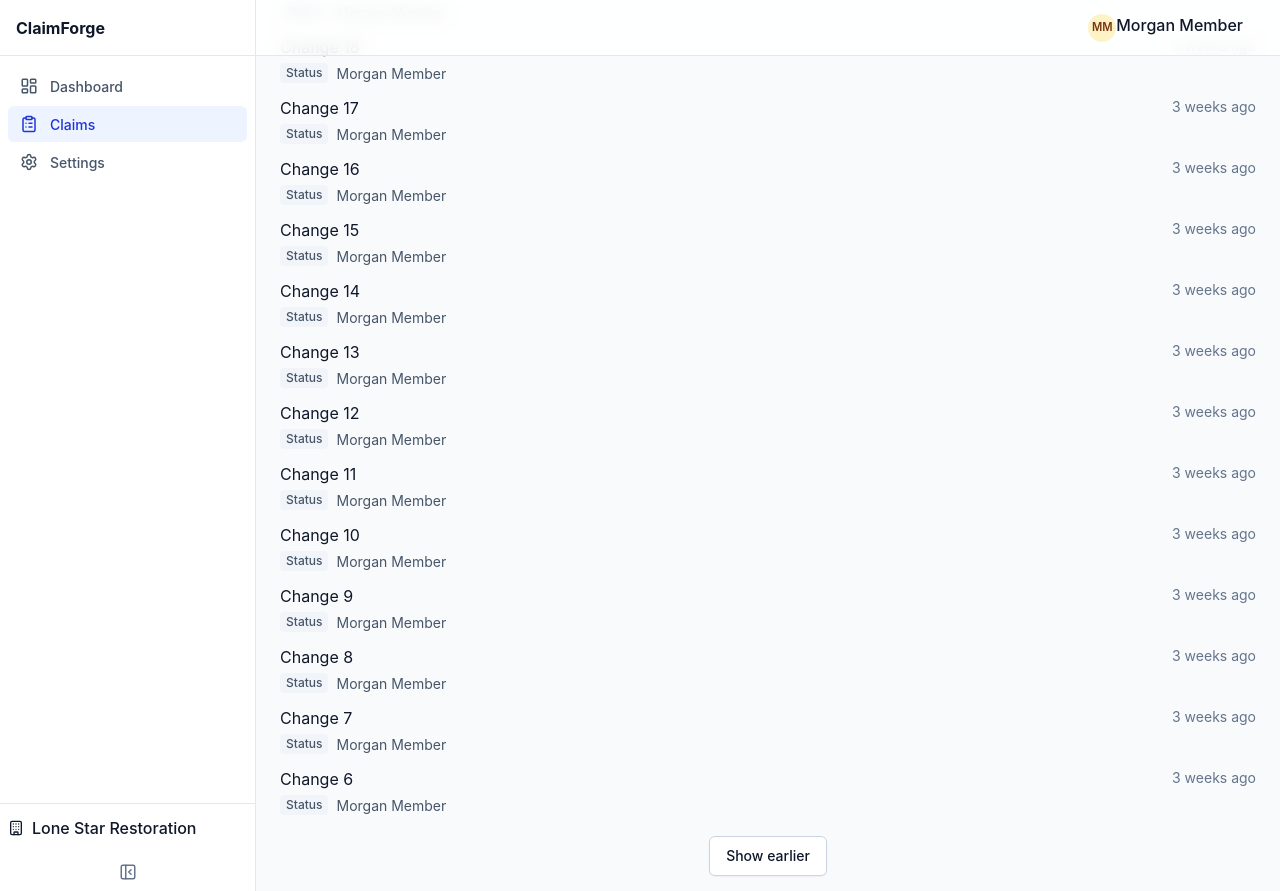
Scenario: the timeline › shows earlier entries on request
This screenshot has width=1280, height=891.
(page scrolled)
Click the button "Show earlier" at [768, 856], box [709,836,827,876]
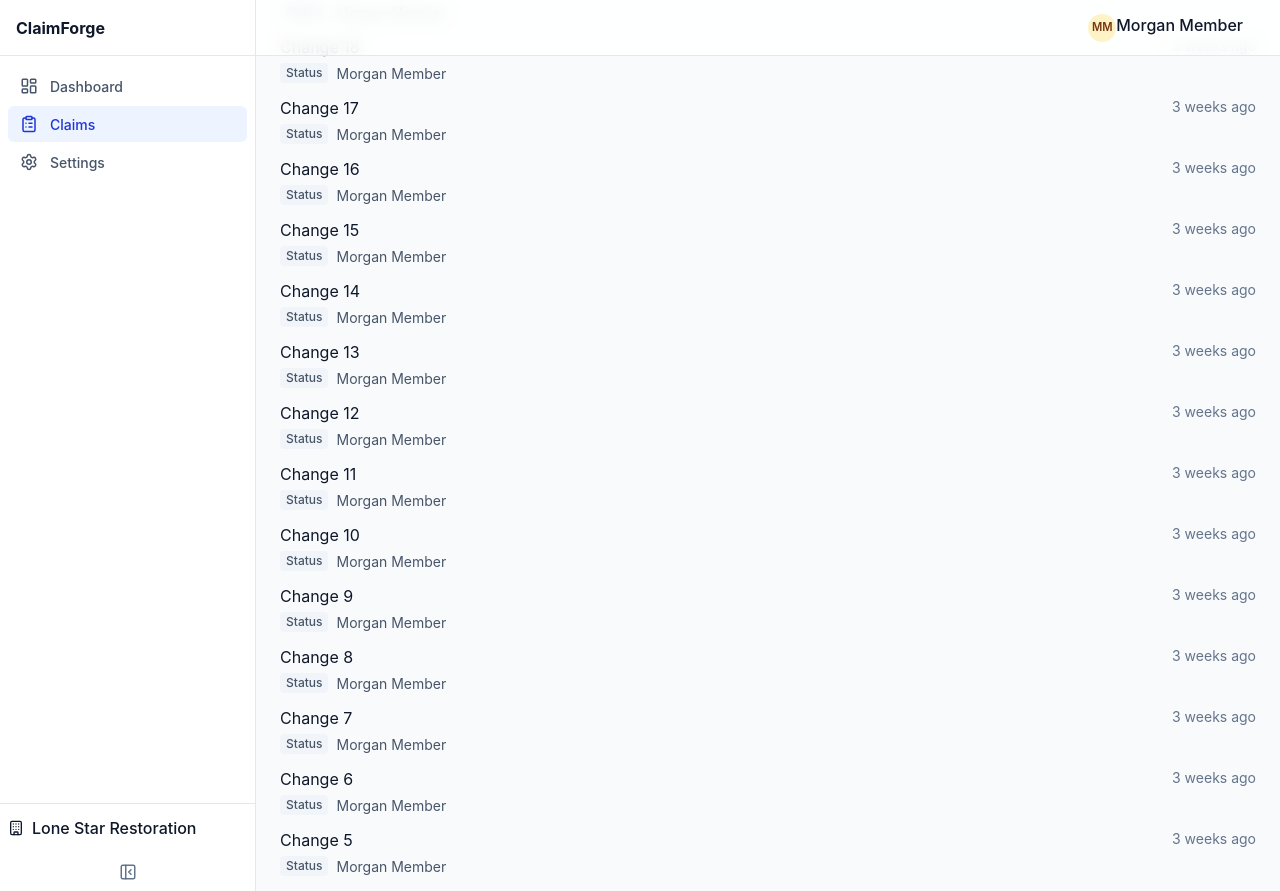
Now the button "Show earlier" is gone
